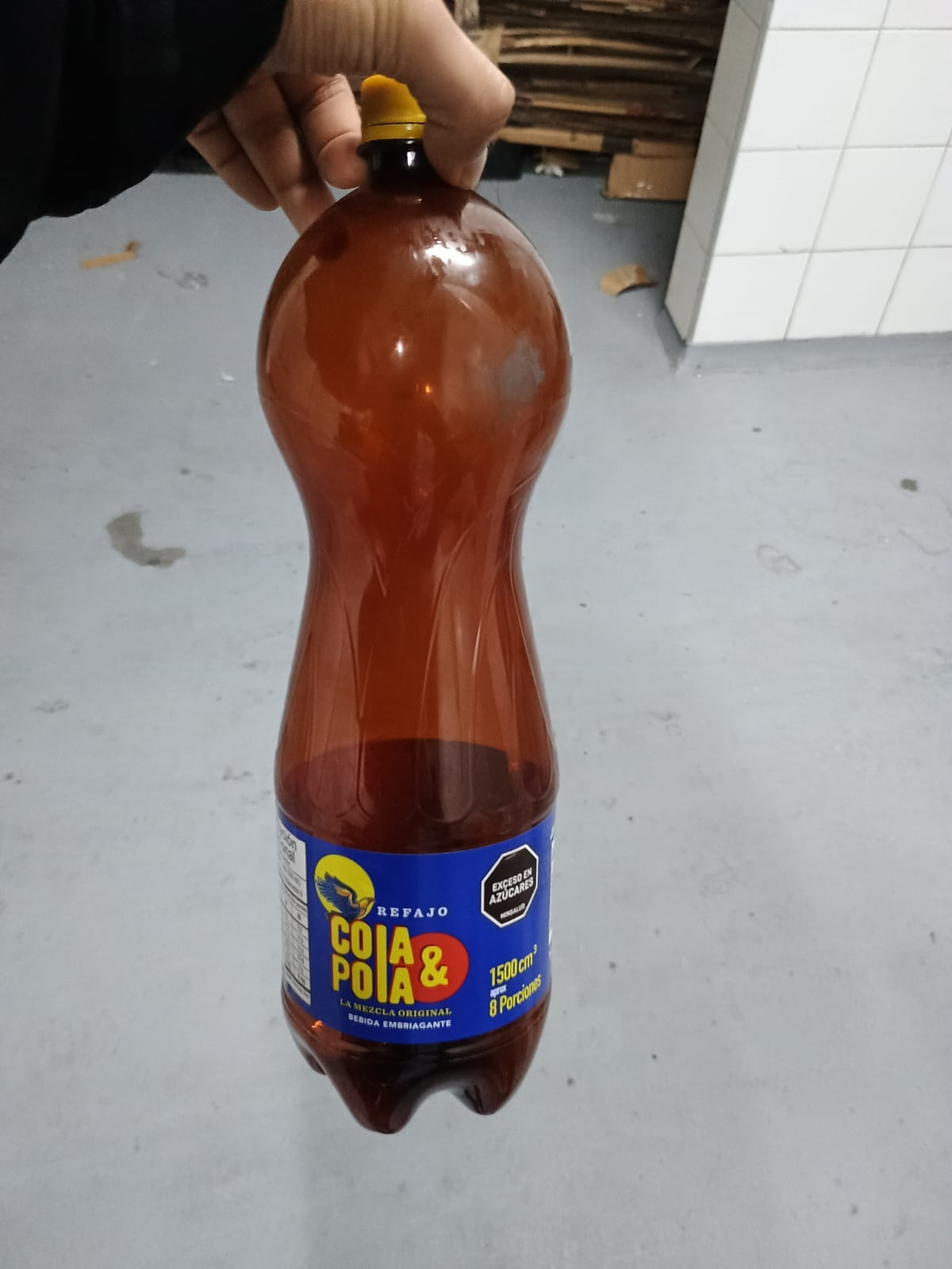Plastico: (253, 76, 574, 1143)
